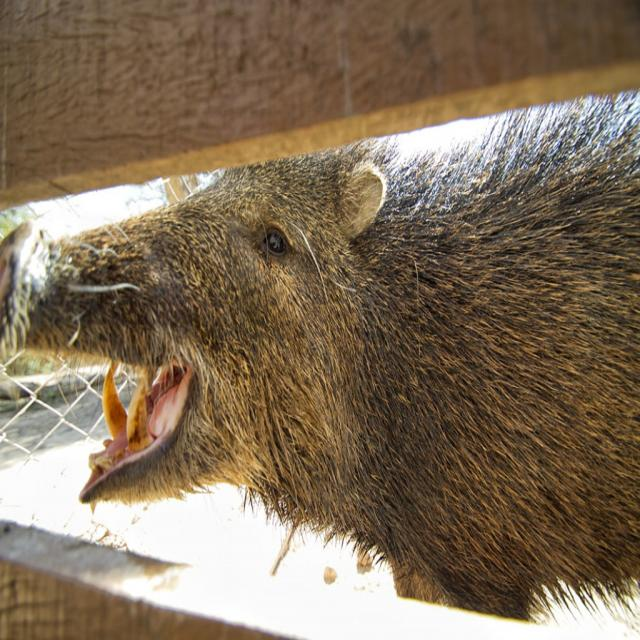Pig: (0, 89, 639, 628)
